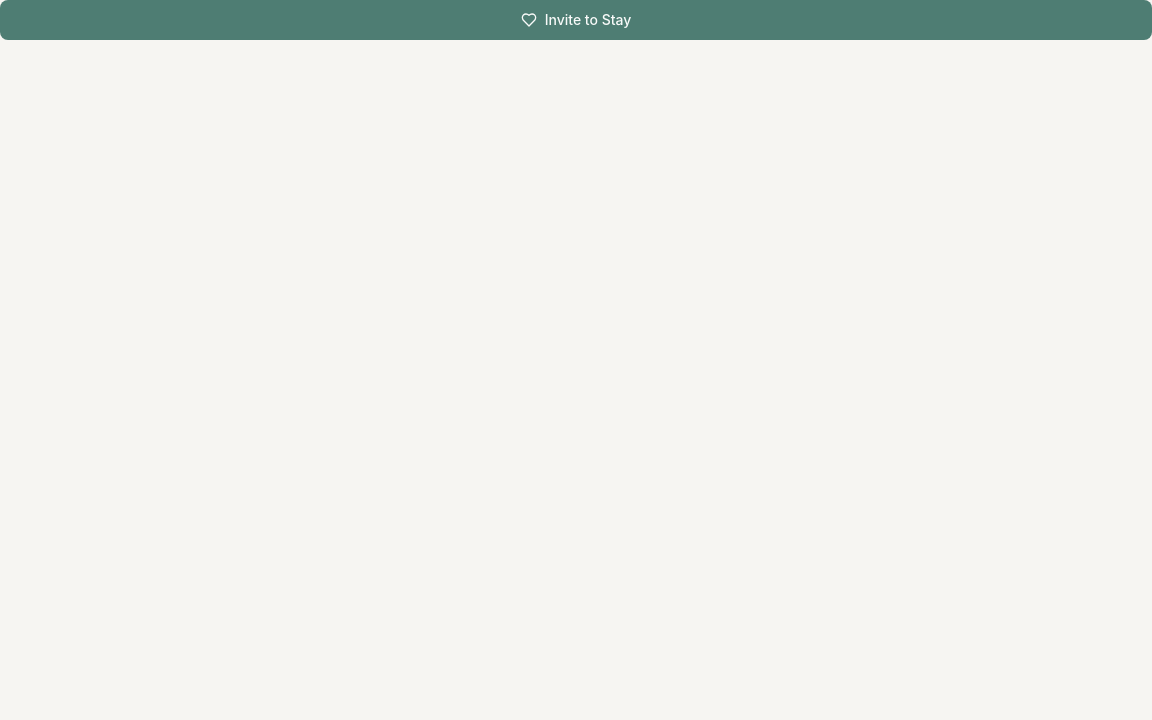
Test: <ListingContactButton /> › creates a conversation + message and routes to it
Later steps or results of the test are not shown.
Click the button "Invite to Stay": (576, 20) [0,0,1151,40]
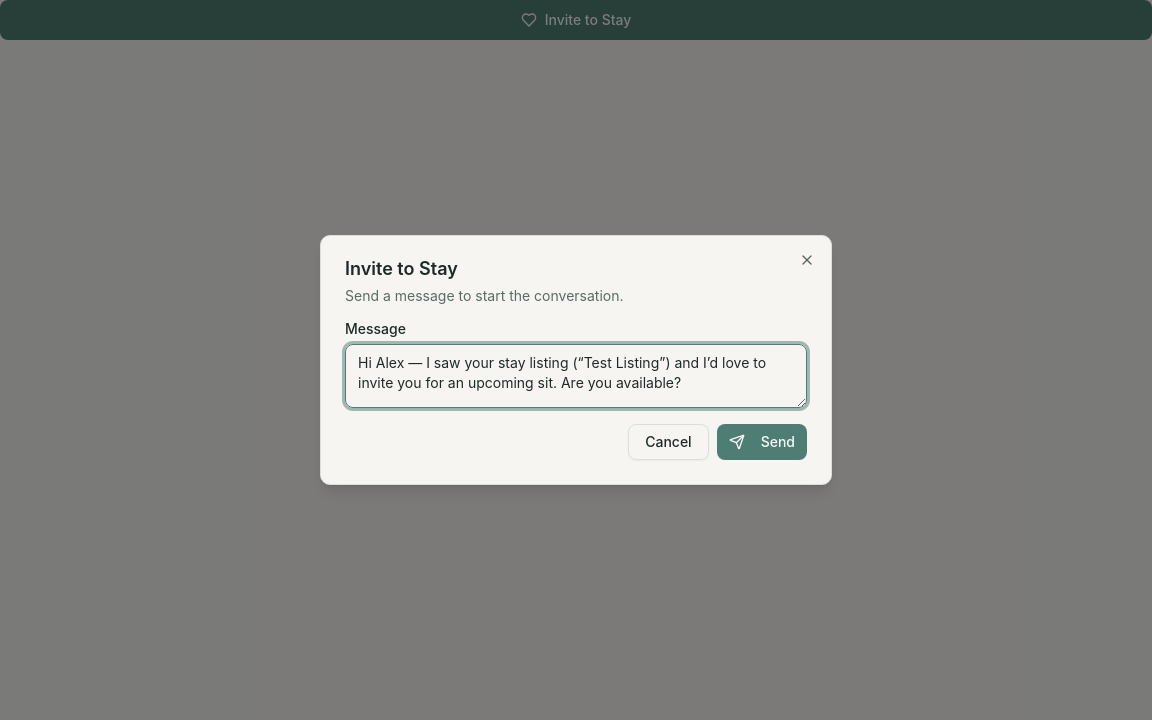
Result: the dialog is shown at [320,235,832,485]
